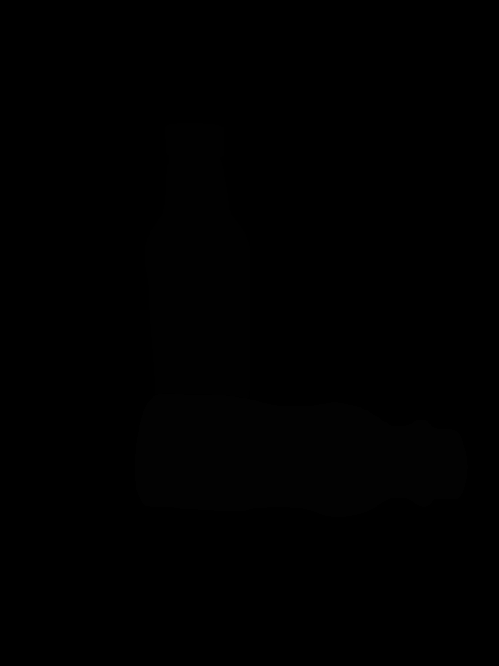milk_bottle: (128, 389, 469, 523)
water_bottle: (139, 116, 258, 408)
